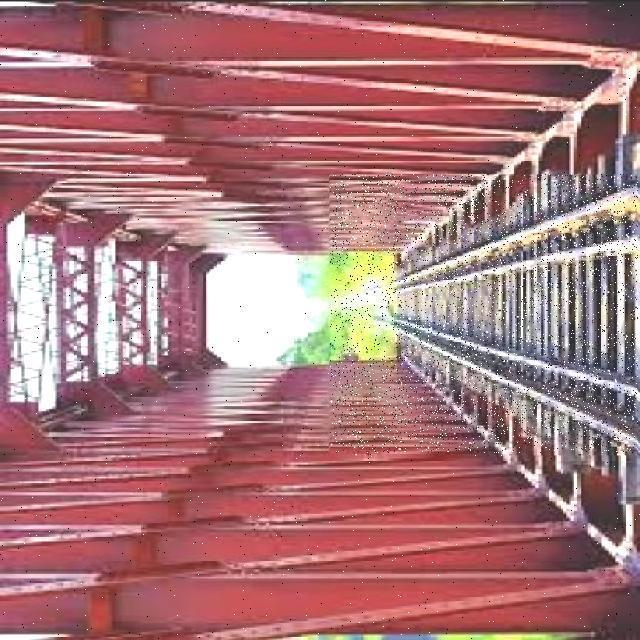rail: (331, 175, 639, 454)
